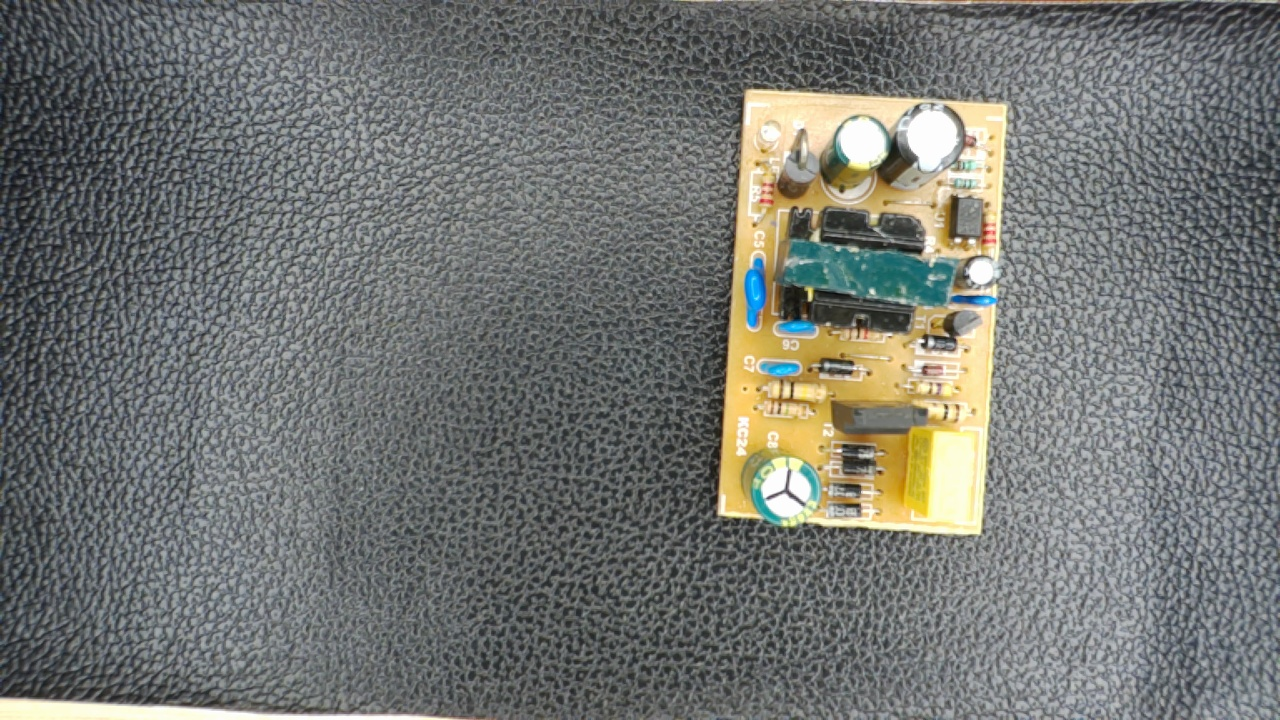hv_capacitor: (738, 450, 827, 527)
mov: (741, 254, 770, 330)
optocoupler: (948, 188, 989, 249)
